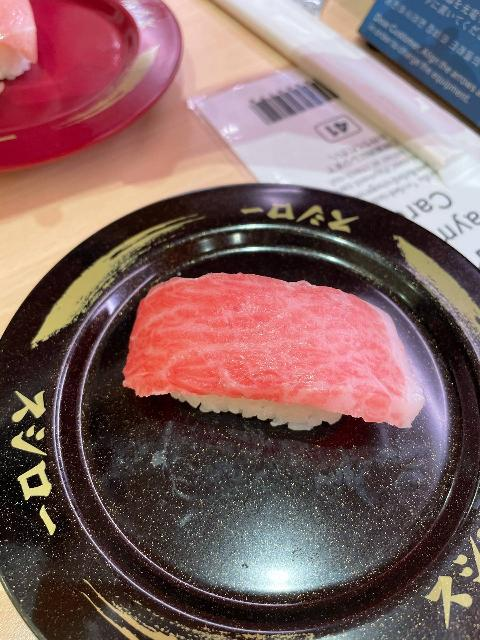janback: (0, 220, 430, 621)
janred: (4, 8, 188, 153)
